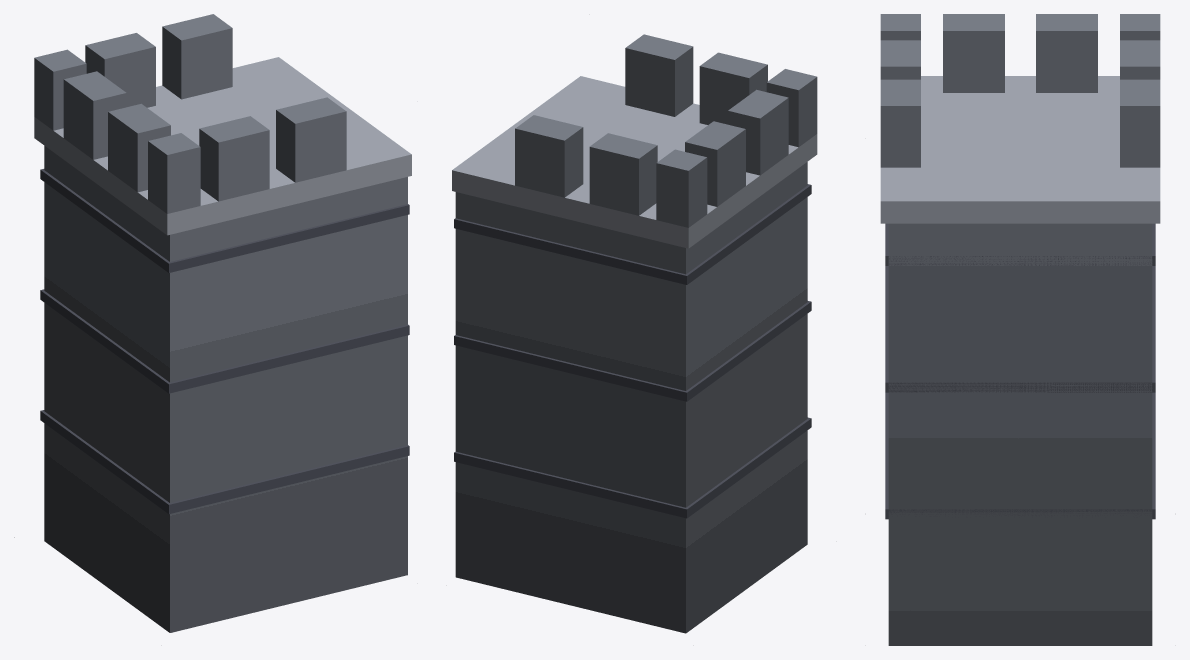
File: perimeter_wall_metal_end.glb
3 views of the same model, side by side, from view 1: azimuth 30°, elevation 25°; view 2: azimuth 150°, elevation 25°; view 3: azimuth 270°, elevation 25° (orthographic). The views are drawn at different scales.
Size of the model in its own units: 2.01 by 3.6 by 2.
1 material, 1 textured.
